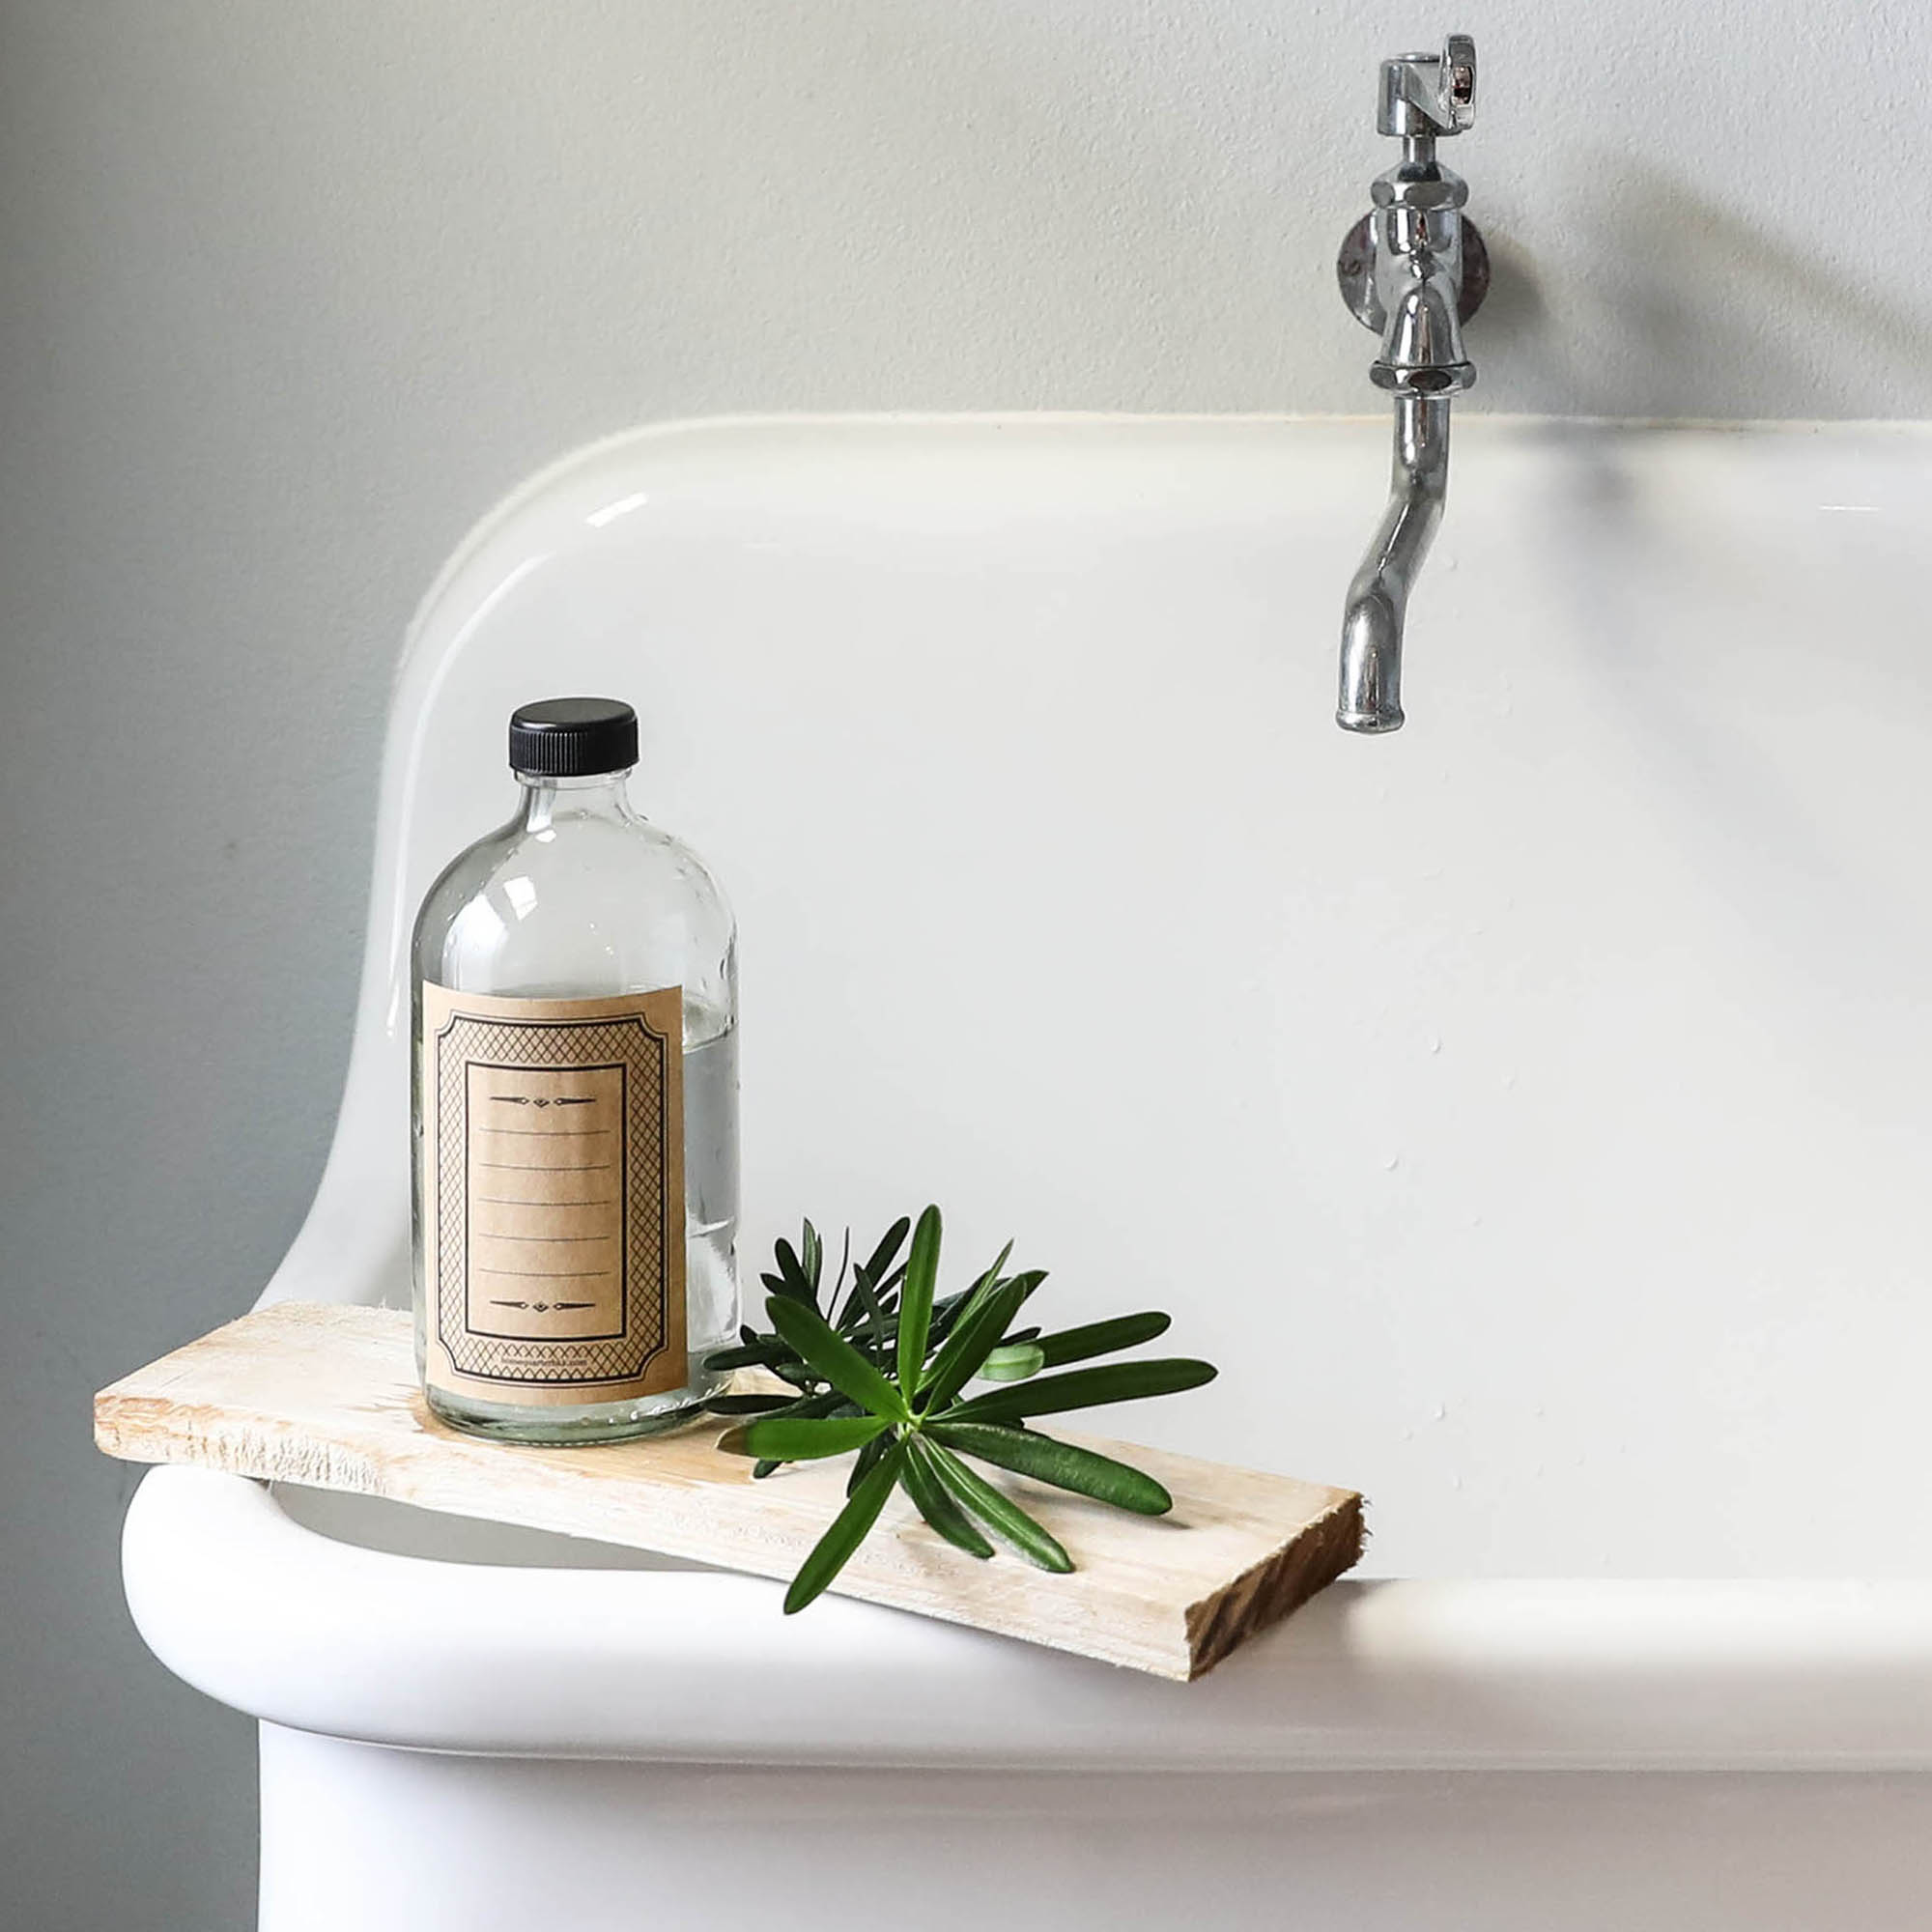glass_bottle: (395, 690, 754, 1458)
